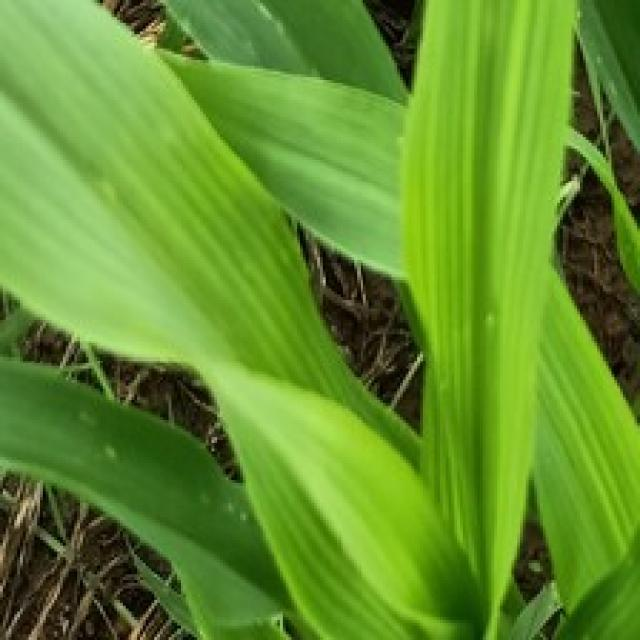Corn: (0, 0, 637, 637), (0, 0, 420, 474), (0, 337, 300, 637), (152, 43, 408, 280), (143, 0, 408, 103)
